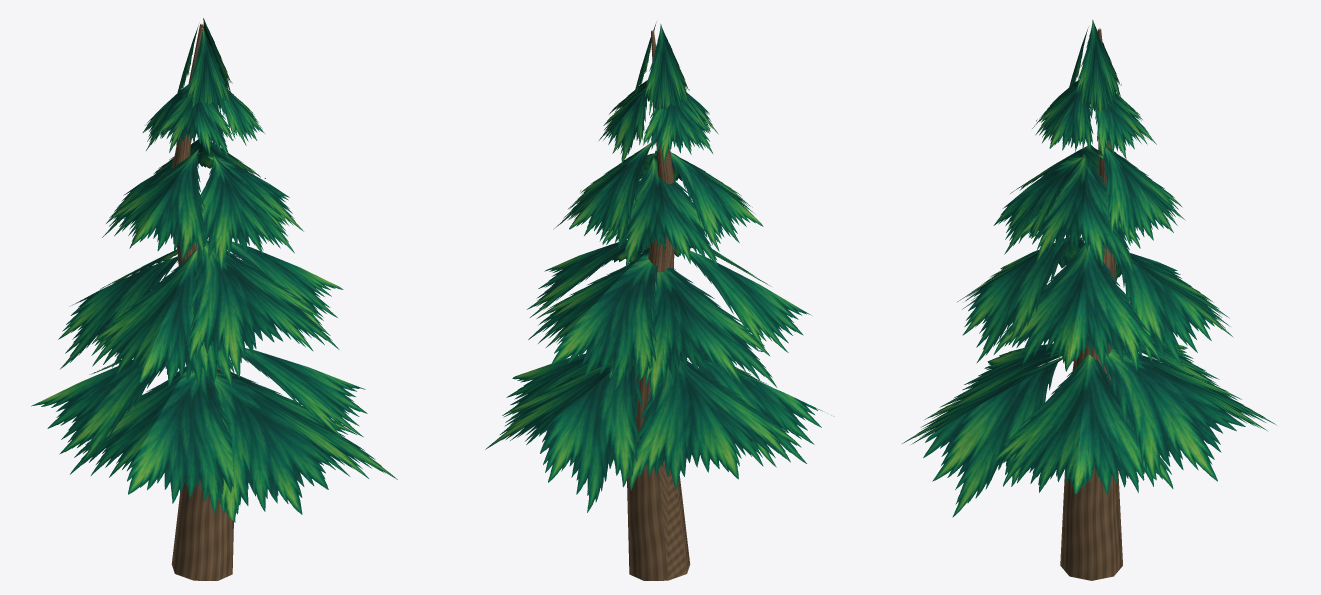
File: source_3.glb
3 renders of one model, left to right at view 1: azimuth 30°, elevation 25°; view 2: azimuth 150°, elevation 25°; view 3: azimuth 270°, elevation 25°, orthographic.
Parts seen in each view (by area): view 1: Tapered harvest trunk; view 2: Tapered harvest trunk; view 3: Tapered harvest trunk.
Part boxes in pixels (<box>): Tapered harvest trunk: <box>31,18,397,580</box>; Tapered harvest trunk: <box>485,22,833,580</box>; Tapered harvest trunk: <box>902,19,1275,580</box>.
Bounding box in the file's own units: 1.96 × 3.11 × 2.18.
3 materials, 2 textured.
